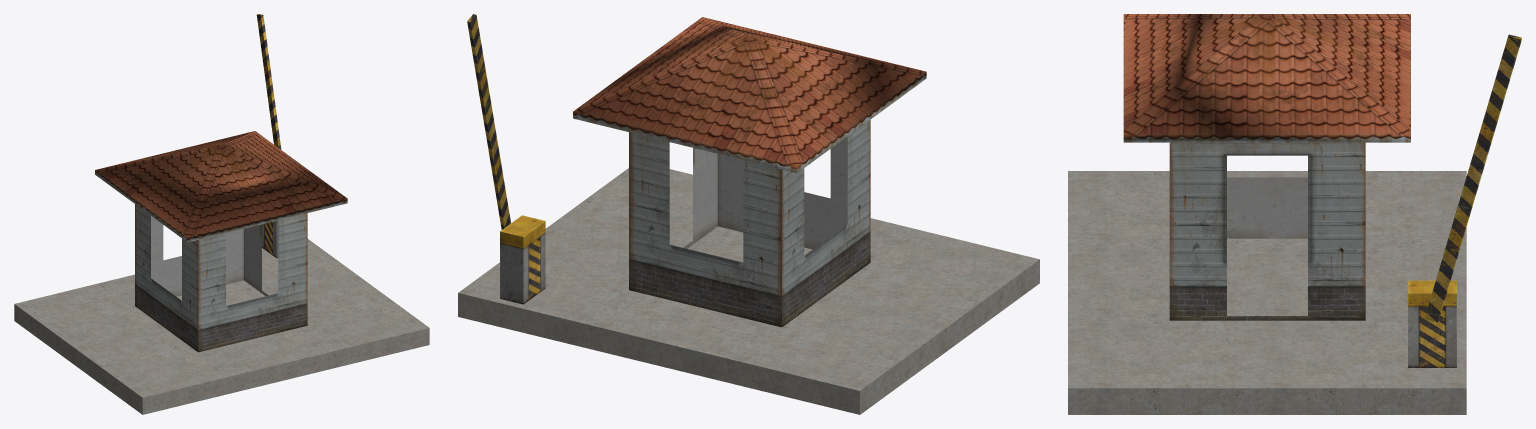
File: Building_Mws01_lod2.glb
The picture shows the model from 3 angles, left to right: view 1: azimuth 30°, elevation 25°; view 2: azimuth 150°, elevation 25°; view 3: azimuth 270°, elevation 25°; orthographic projection. The views are drawn at different scales.
Visible parts, largest first — view 1: xiutz_mws_01_lod2_0; view 2: xiutz_mws_01_lod2_0; view 3: xiutz_mws_01_lod2_0.
Part boxes in pixels (x1=…): xiutz_mws_01_lod2_0: x1=14, y1=14, x2=429, y2=414; xiutz_mws_01_lod2_0: x1=458, y1=14, x2=1039, y2=414; xiutz_mws_01_lod2_0: x1=1068, y1=14, x2=1521, y2=414.
Size of the model in its own units: 9.48 by 7.33 by 8.36.
2 materials, 2 textured.
